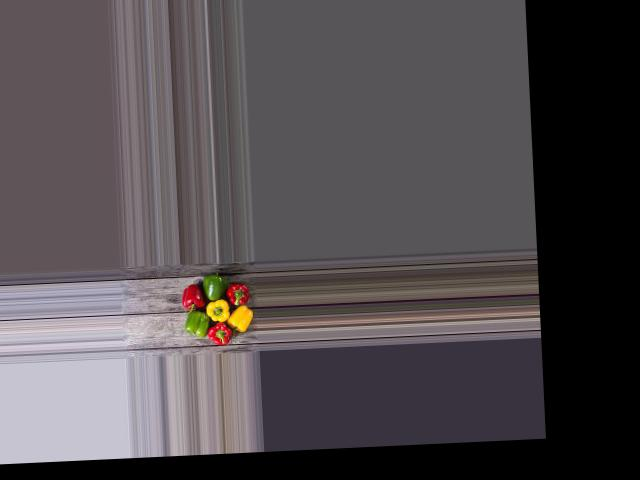bell_pepper: (226, 282, 255, 310)
